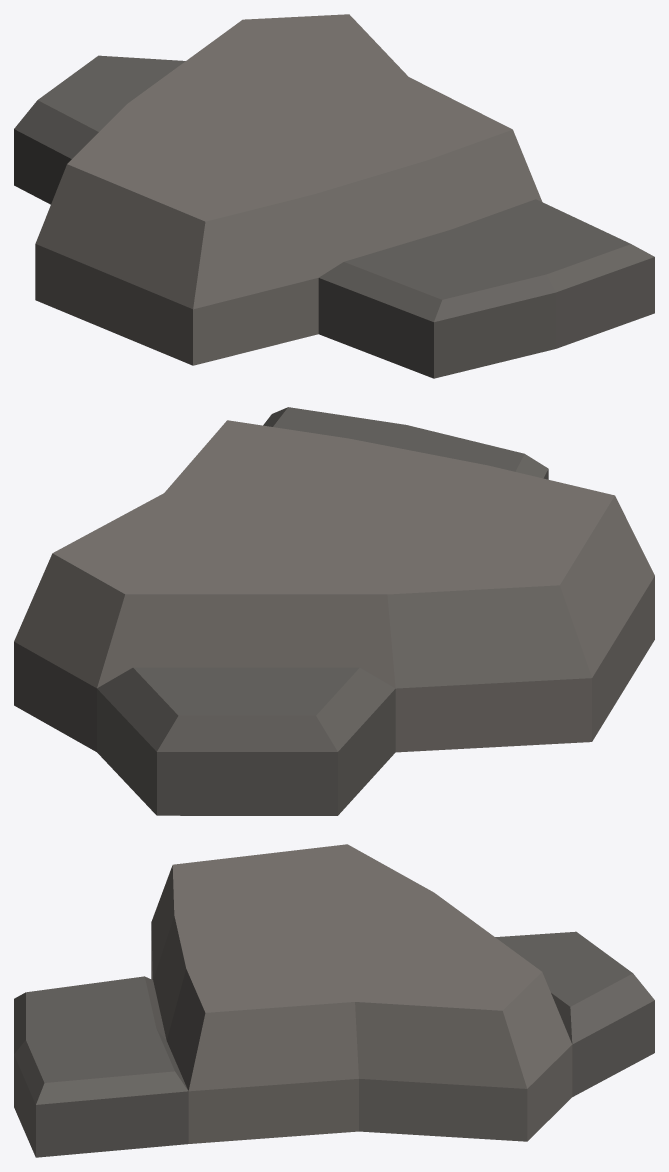
The model's file is flatrock7.fbx.
The picture shows the model from 3 angles, top to bottom: view 1: azimuth 30°, elevation 25°; view 2: azimuth 150°, elevation 25°; view 3: azimuth 270°, elevation 25°; orthographic projection. The views are drawn at different scales.
Visible parts, largest first — view 1: FlatRock7; view 2: FlatRock7; view 3: FlatRock7.
Part boxes in pixels (x1,y1,x2,y2): FlatRock7: (14, 14, 654, 378); FlatRock7: (14, 407, 654, 815); FlatRock7: (14, 844, 654, 1157).
Size of the model in its own units: 1.52 by 0.4176 by 2.
